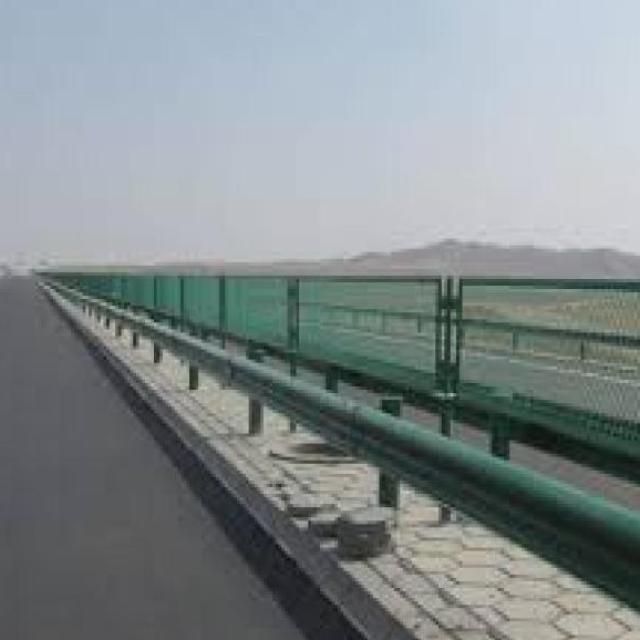Guard rail: (53, 284, 640, 608)
